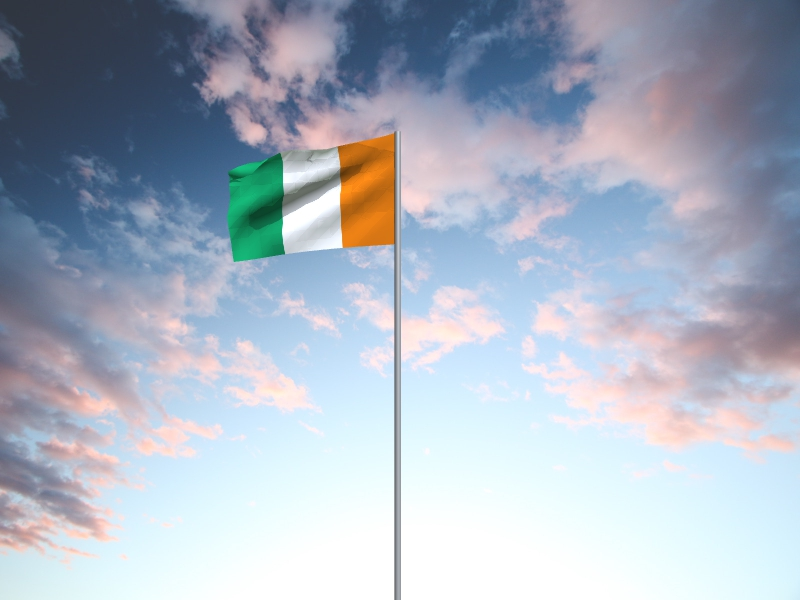ci: (227, 134, 395, 264)
